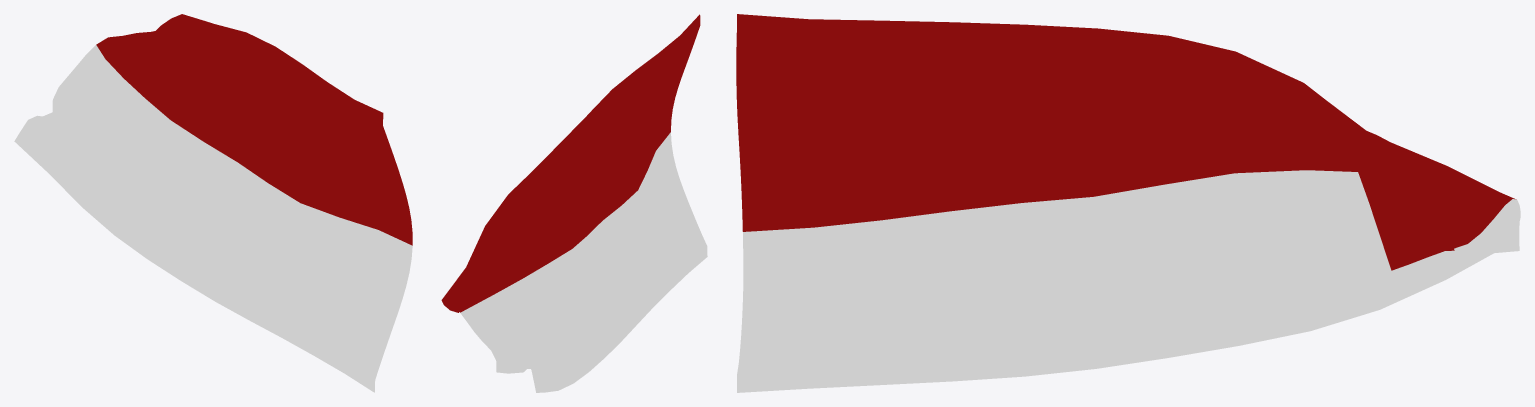
The model's file is flags.fbx.
3 views of the same model, side by side, from view 1: azimuth 30°, elevation 25°; view 2: azimuth 150°, elevation 25°; view 3: azimuth 270°, elevation 25° (orthographic). The views are drawn at different scales.
Visible parts, largest first — view 1: Plane; view 2: Plane; view 3: Plane.
Boxes of the visible parts, x1,y1,x2,y2 form: Plane: (14, 14, 412, 392); Plane: (441, 14, 707, 392); Plane: (736, 14, 1520, 392).
Size of the model in its own units: 91.44 by 200 by 369.
